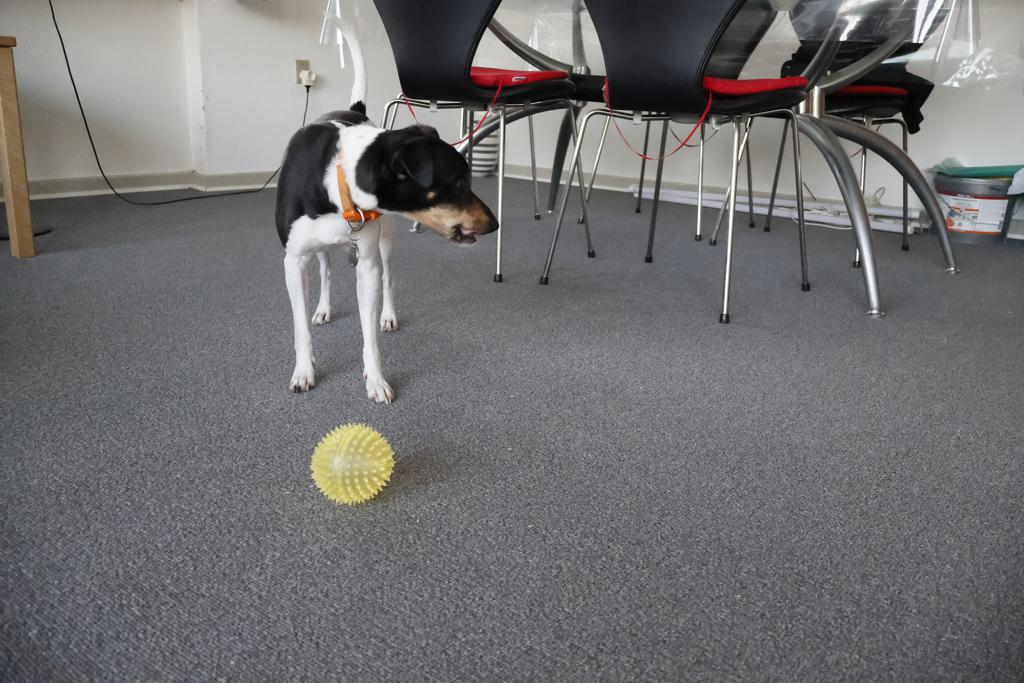Dog: (262, 2, 515, 413)
